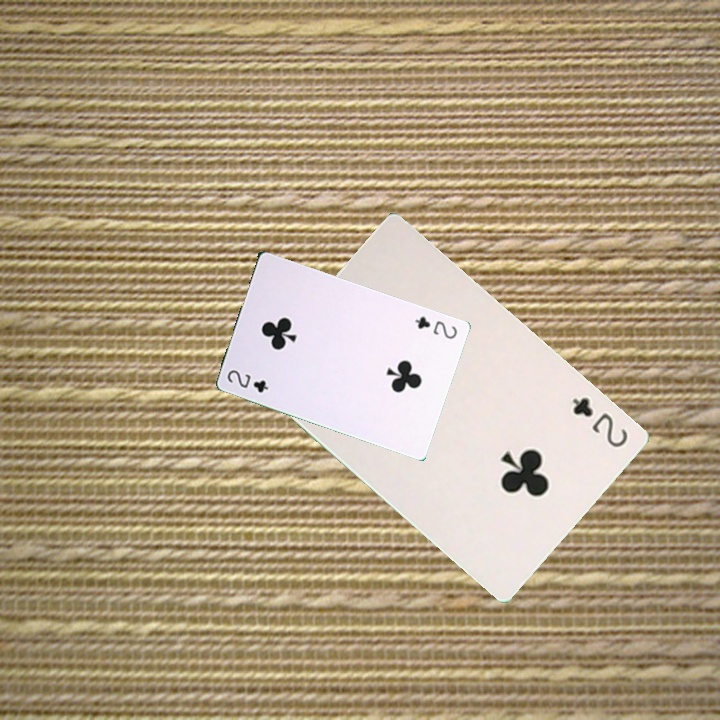2c: (568, 393, 631, 451), (411, 312, 460, 342), (223, 365, 271, 395)
